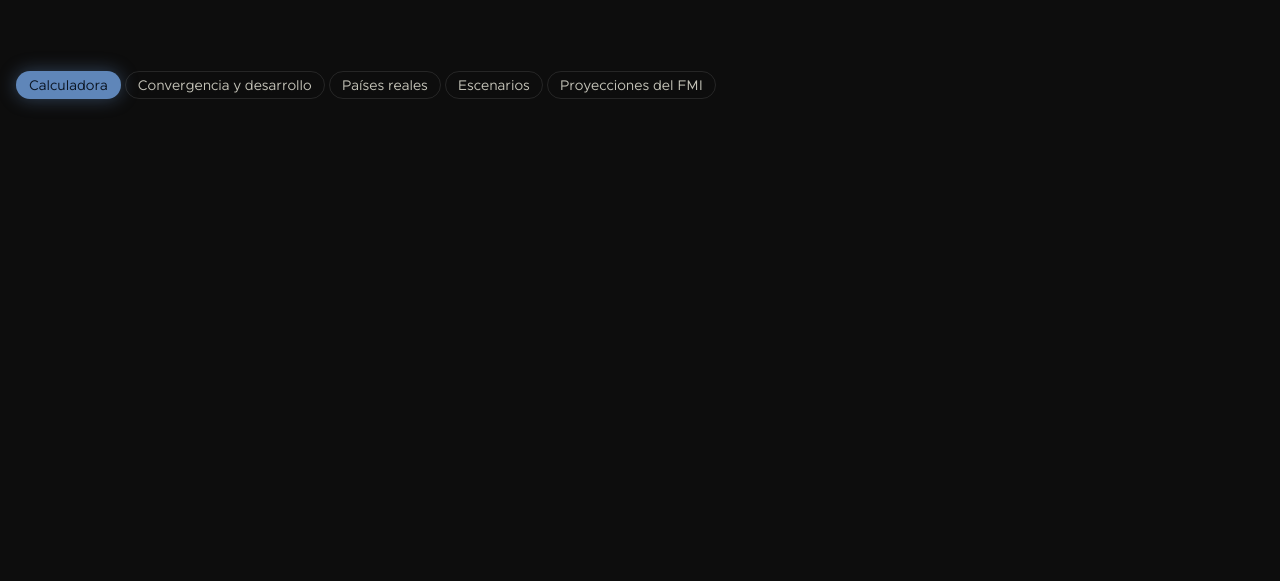
Test: the country explorer › opens on Argentina, real GDP, 1960 to 2025, with the rate between the endpoints computed from the data
Click the tab "Países reales". click: (385, 85)
box: [329, 71, 441, 99]
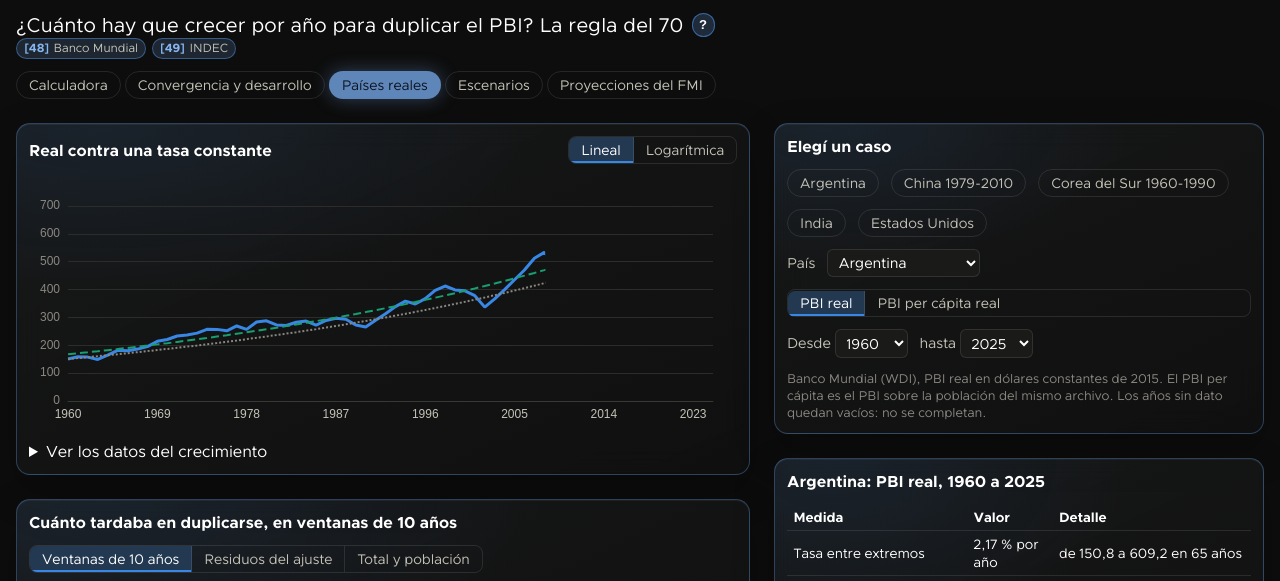
Expected: the dropdown labelled "País" shows "Argentina", [828, 249, 980, 278]
Expected: the dropdown labelled "Desde" shows "1960", [835, 330, 908, 358]
Expected: the dropdown labelled "hasta" shows "2025", [960, 330, 1033, 358]
